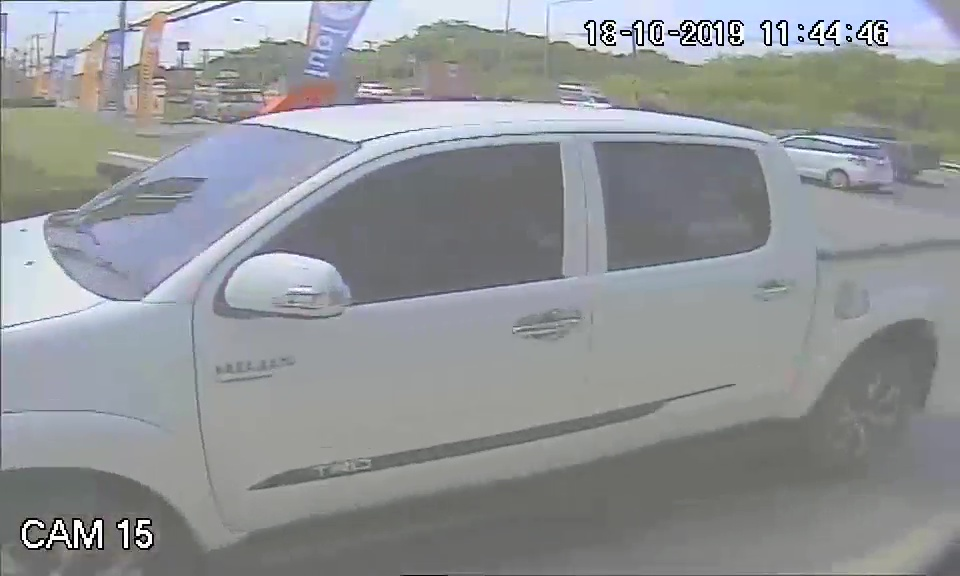pickup: (7, 101, 808, 504)
